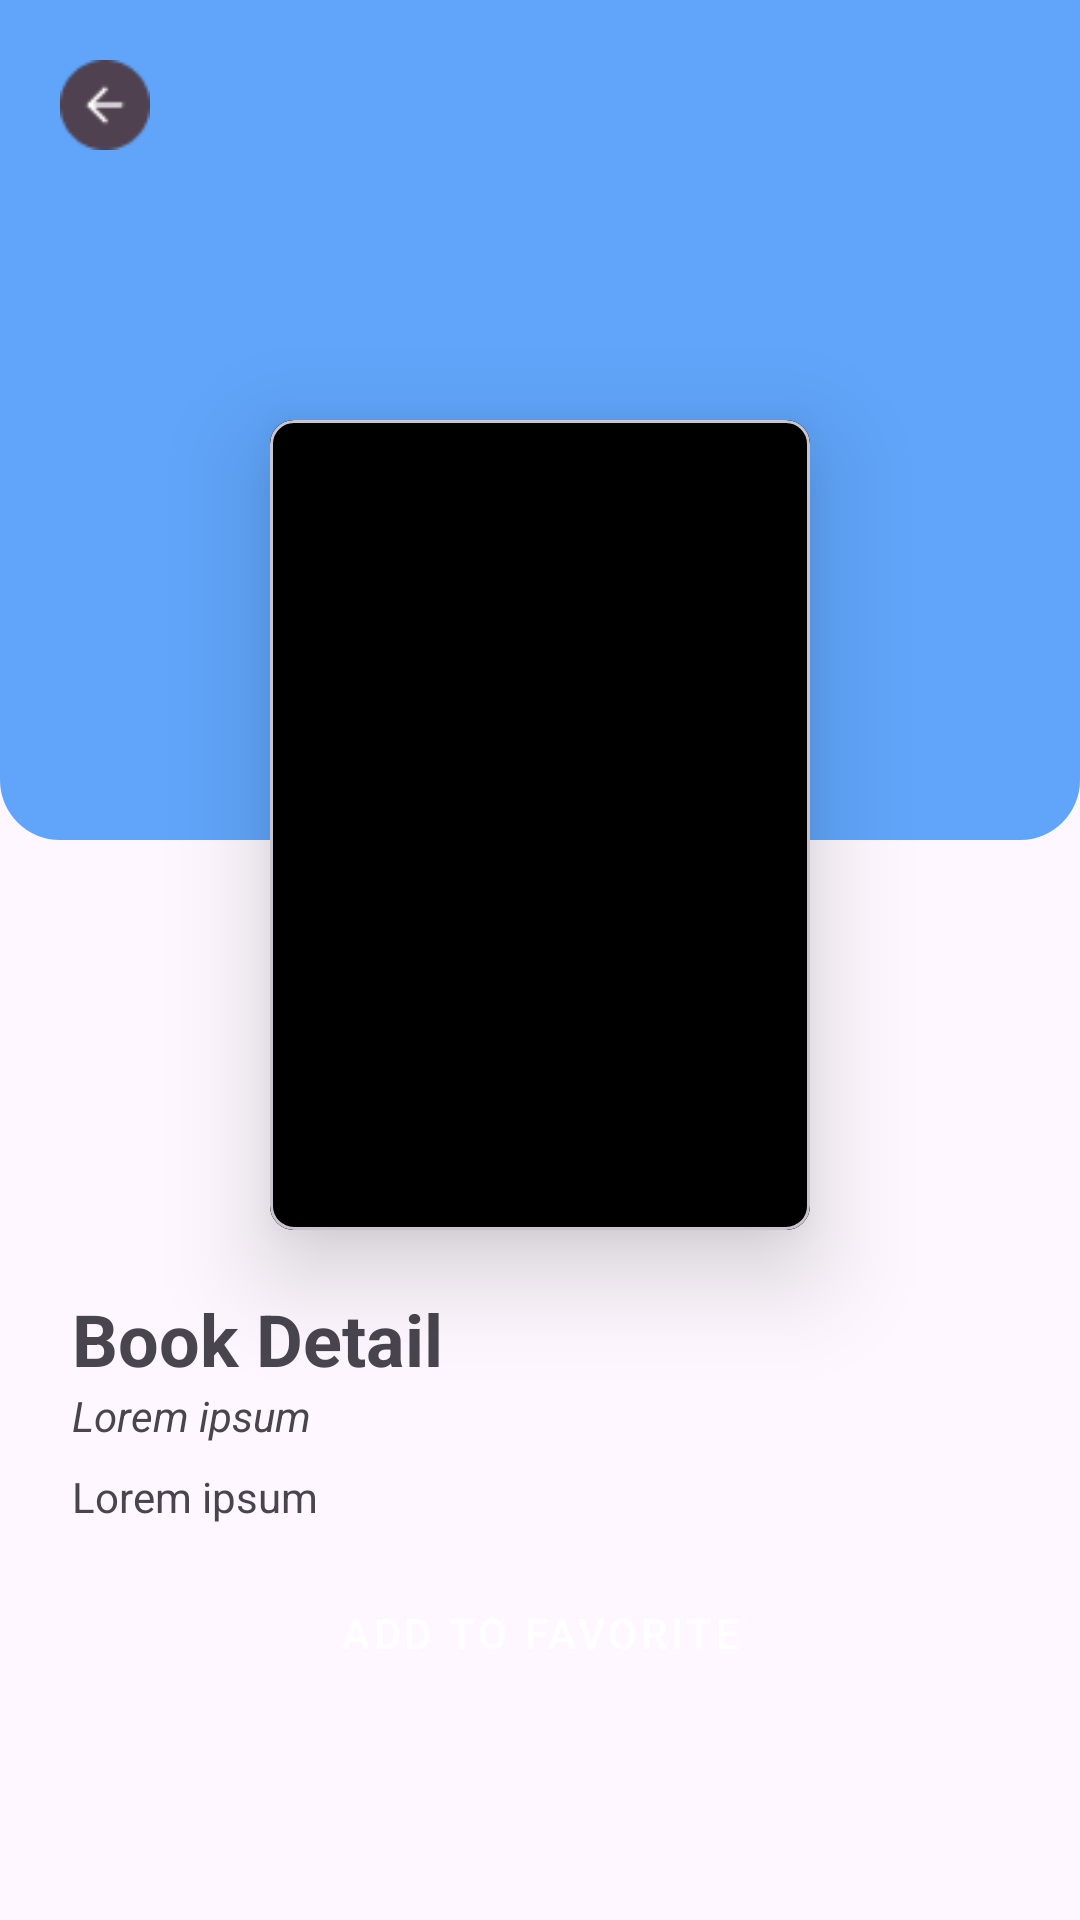

Point at icon controls on the screen. Image size 1080px×1920px, points as point (x, y).
back: point (105, 105)
